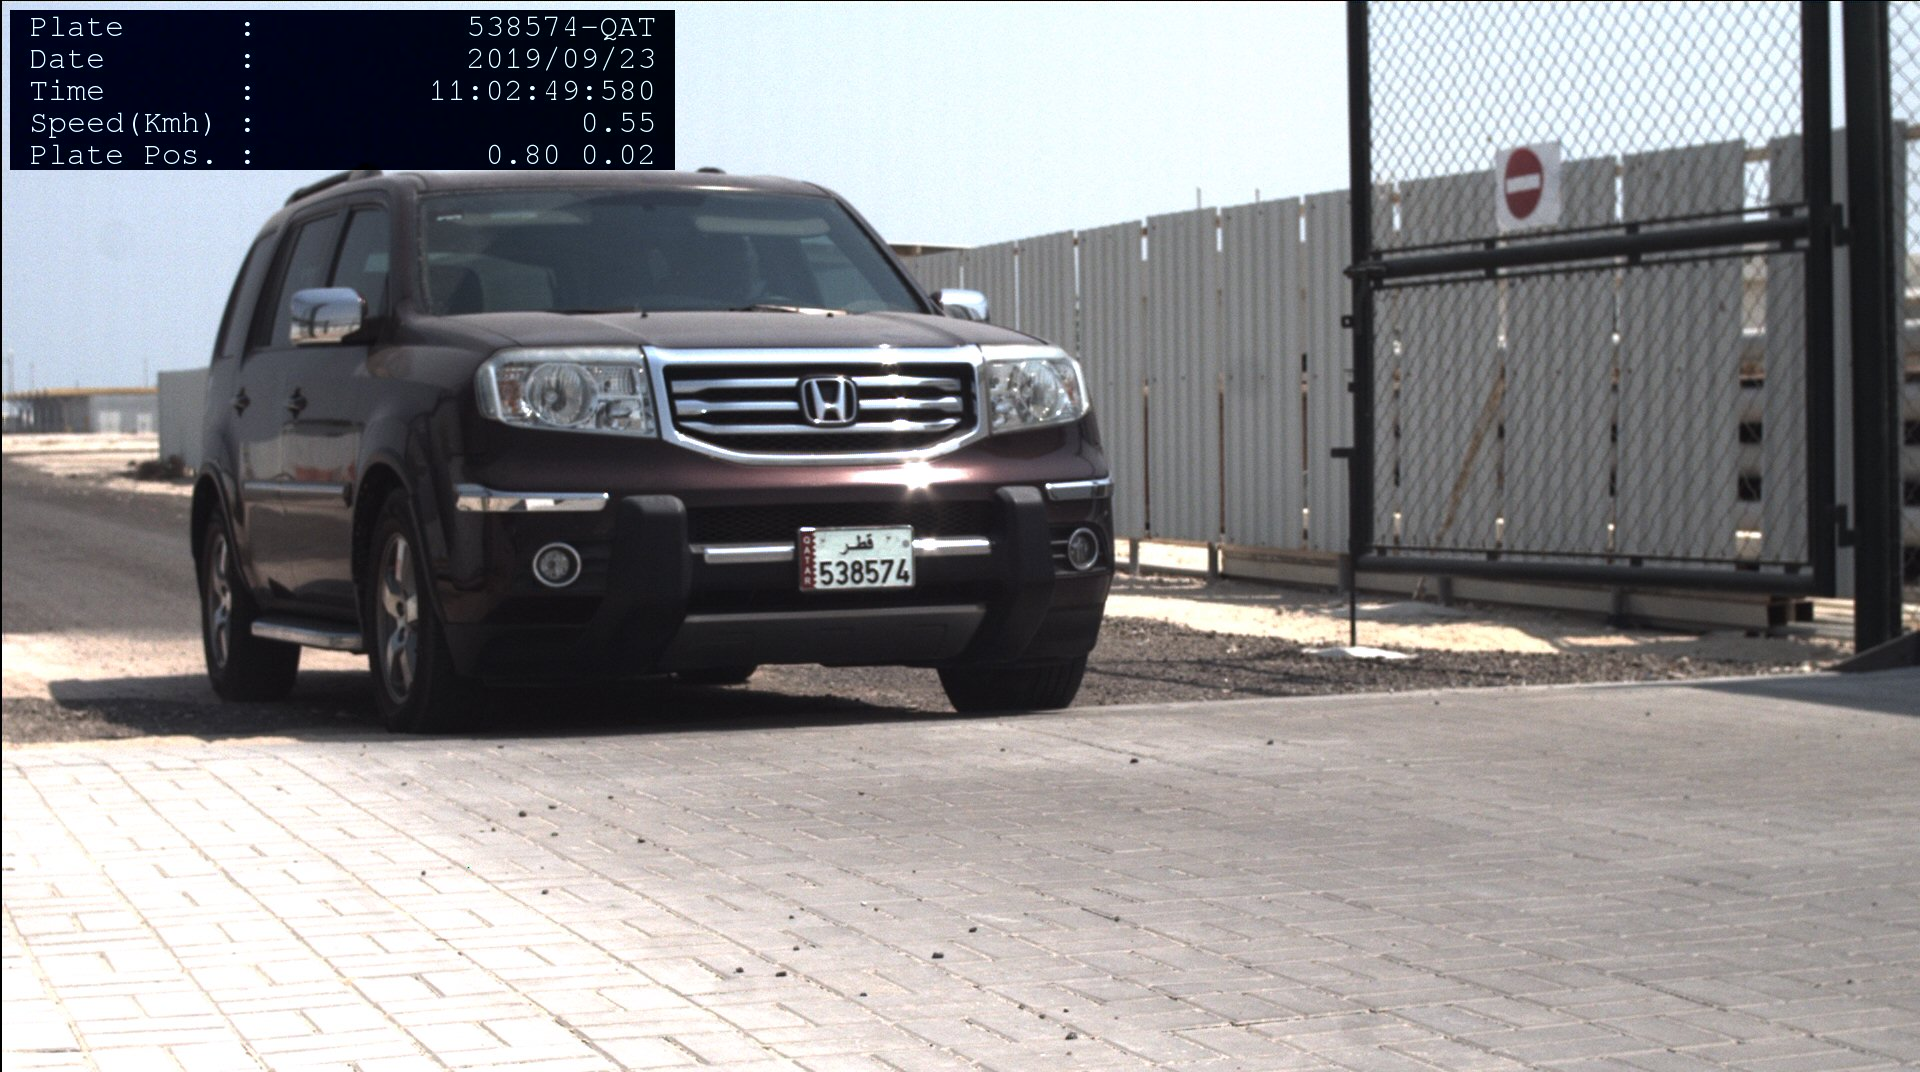License Plate: (801, 527, 913, 588)
